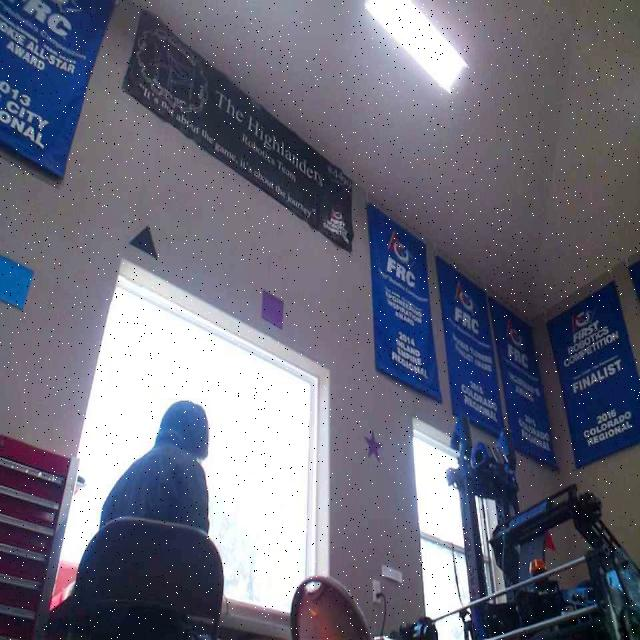square_blue: (0, 255, 35, 310)
square_purple: (260, 288, 283, 328)
star_purple: (362, 426, 384, 461)
triangle_black: (128, 223, 157, 258)
